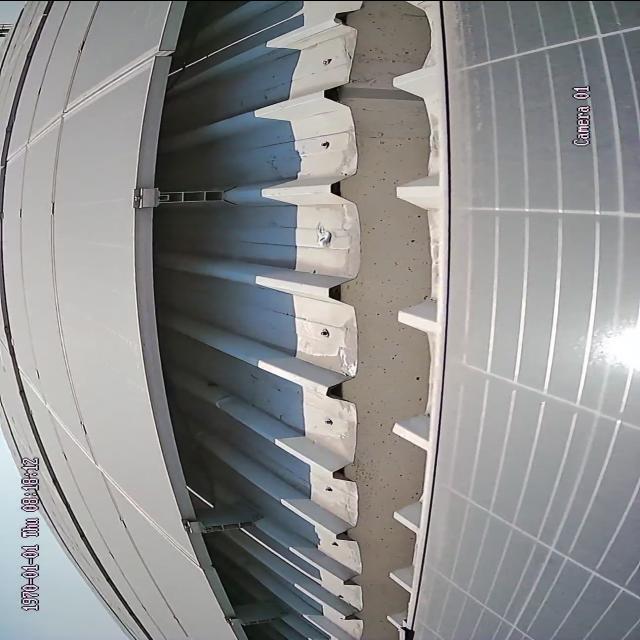interior panel: (24, 383, 196, 567), (8, 46, 154, 162)
outher panel: (141, 3, 450, 640)
